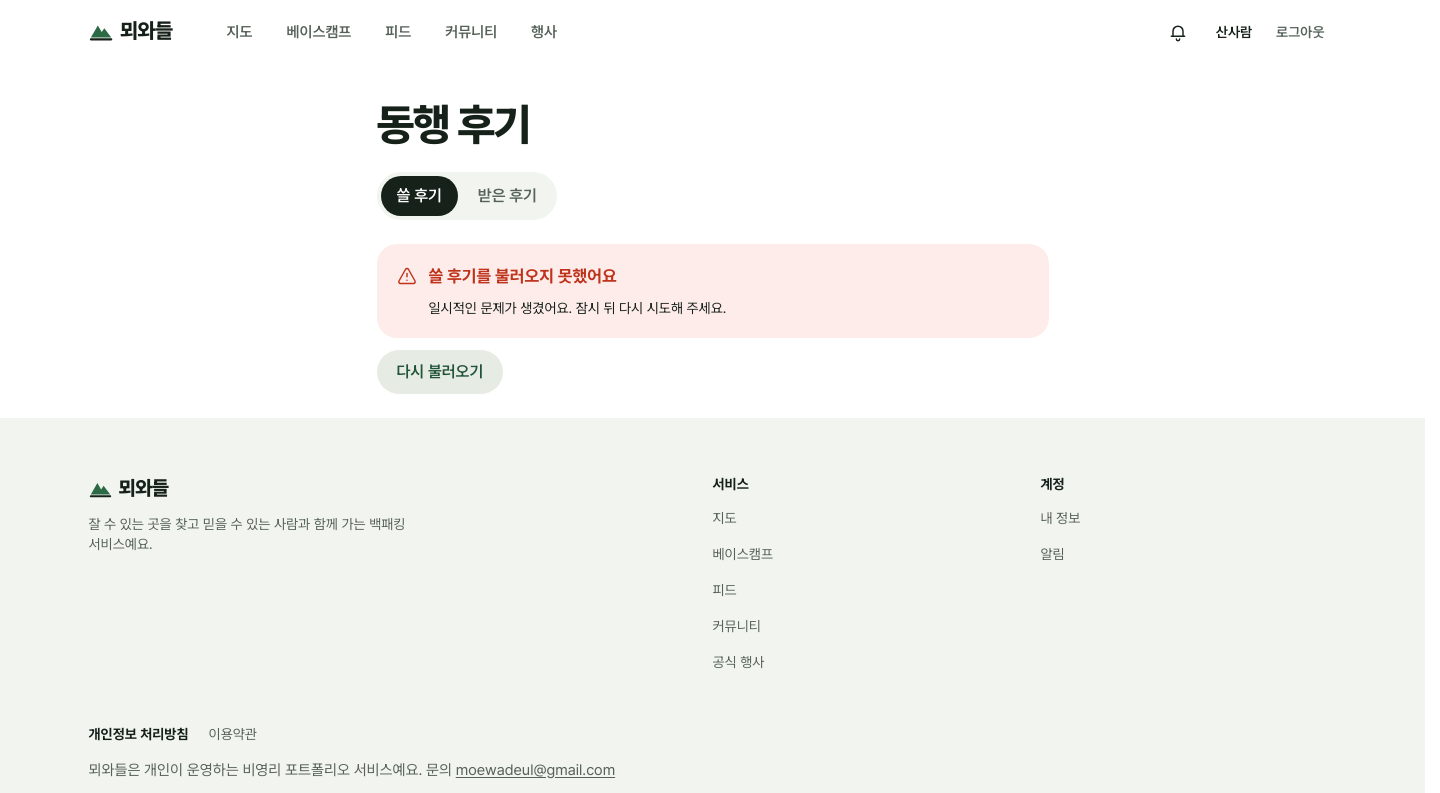
Test: 동행 후기 화면 › 쓸 후기 › 불러오지 못하면 오류 문구가 나오고, 다시 불러오기를 누르면 목록이 나온다
What coordinates should you click on to do the following:
click the button "다시 불러오기"
I would click on:
 (440, 372)
Its box is x1=376 y1=350 x2=503 y2=394.
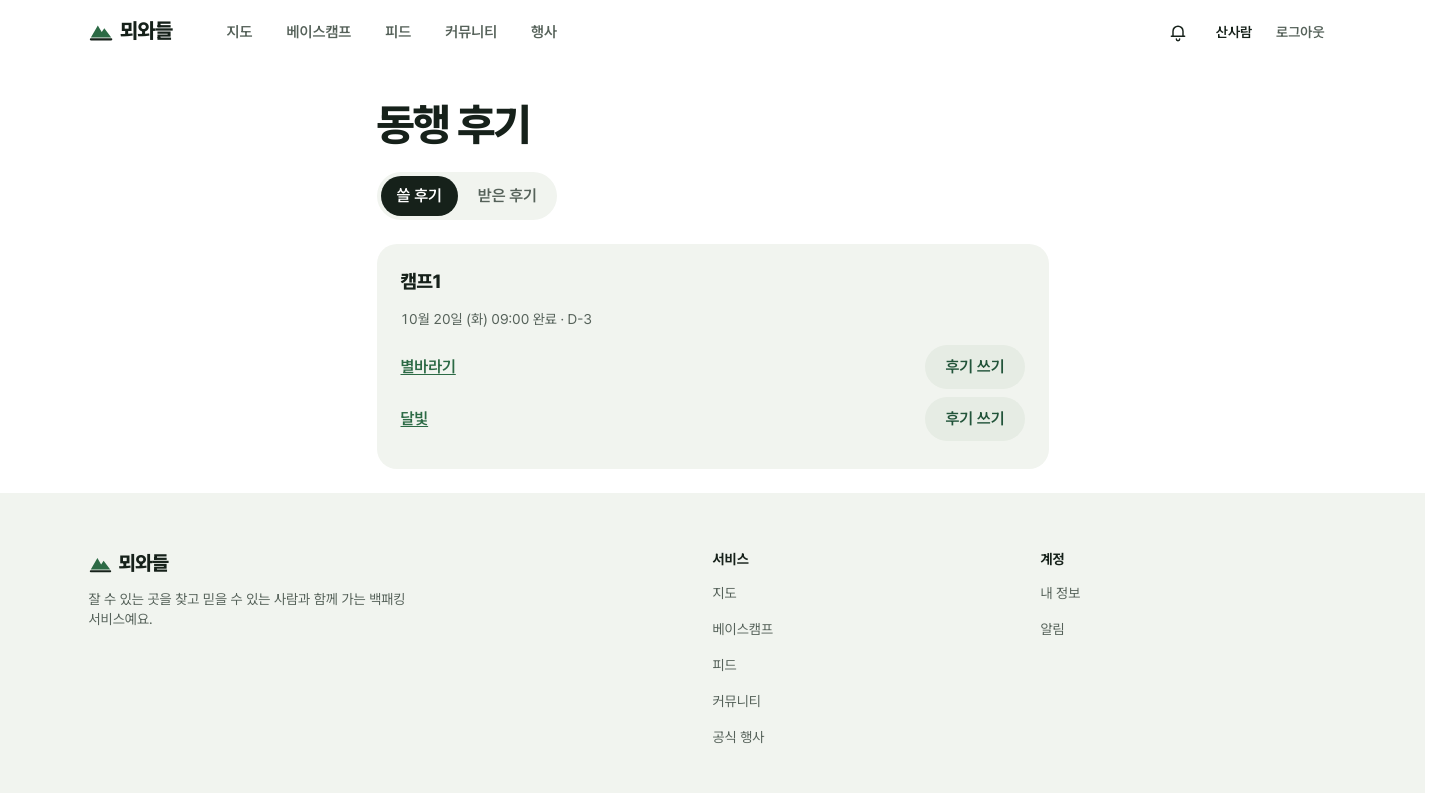
Check: the text "캠프1" is shown, box x1=400 y1=270 x2=441 y2=293
Check: the text "쓸 후기를 불러오지 못했어요" is gone
